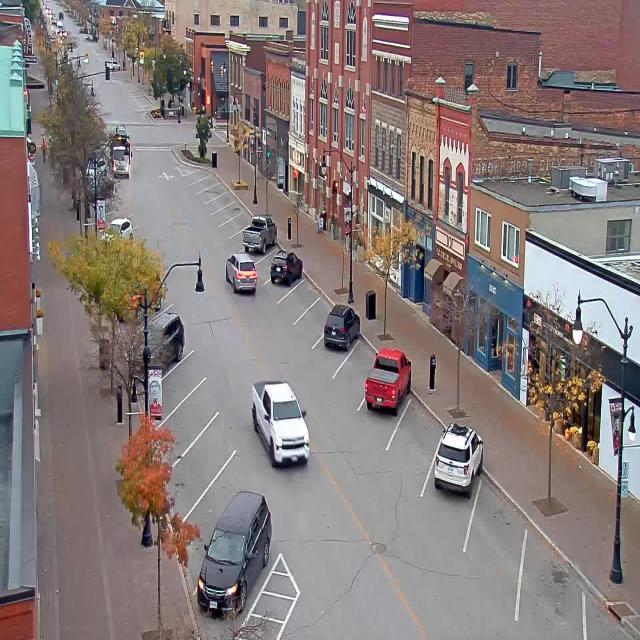available: (459, 487, 534, 588), (516, 541, 594, 636), (384, 400, 444, 484), (155, 376, 231, 433), (168, 408, 239, 463), (175, 448, 256, 492), (329, 335, 373, 408), (575, 595, 640, 640), (154, 346, 214, 394), (293, 301, 332, 348), (278, 276, 321, 314), (252, 250, 278, 286), (212, 200, 246, 220), (222, 213, 252, 234), (206, 190, 237, 210), (191, 174, 221, 190), (197, 184, 230, 198)
occupied: (196, 489, 272, 617), (434, 421, 484, 498), (364, 346, 412, 413), (143, 308, 185, 366), (323, 302, 360, 351), (242, 214, 277, 254), (270, 249, 303, 285)
